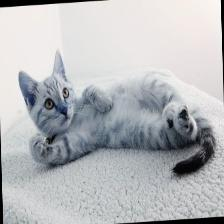kedo: (17, 49, 216, 176)
